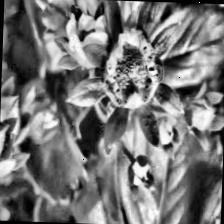Blossom Blight: (102, 31, 165, 108)
